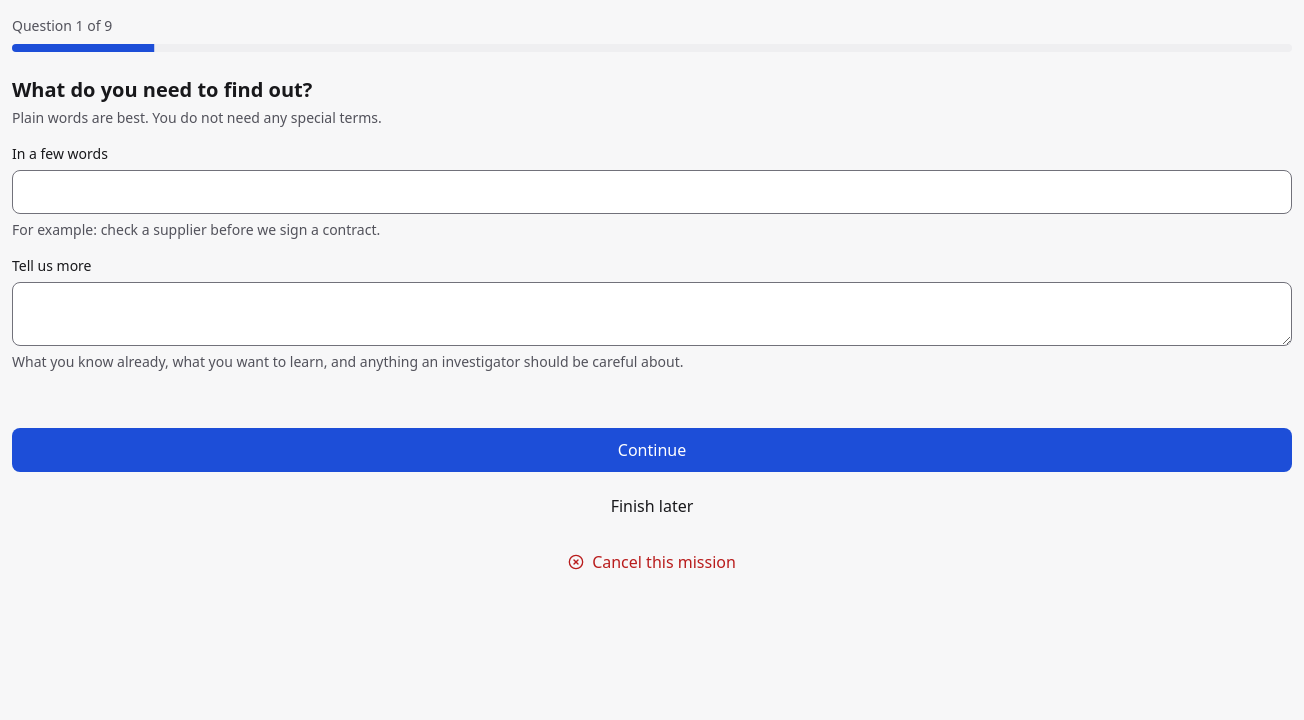
Test: mission intake › saving as the customer goes › says so when the draft was changed somewhere else
The width and height of the screenshot is (1304, 720).
Type "A" into the field labelled "In a few words".
click(652, 192); type("A")  # box [12, 170, 1292, 214]
Wait 800 ms
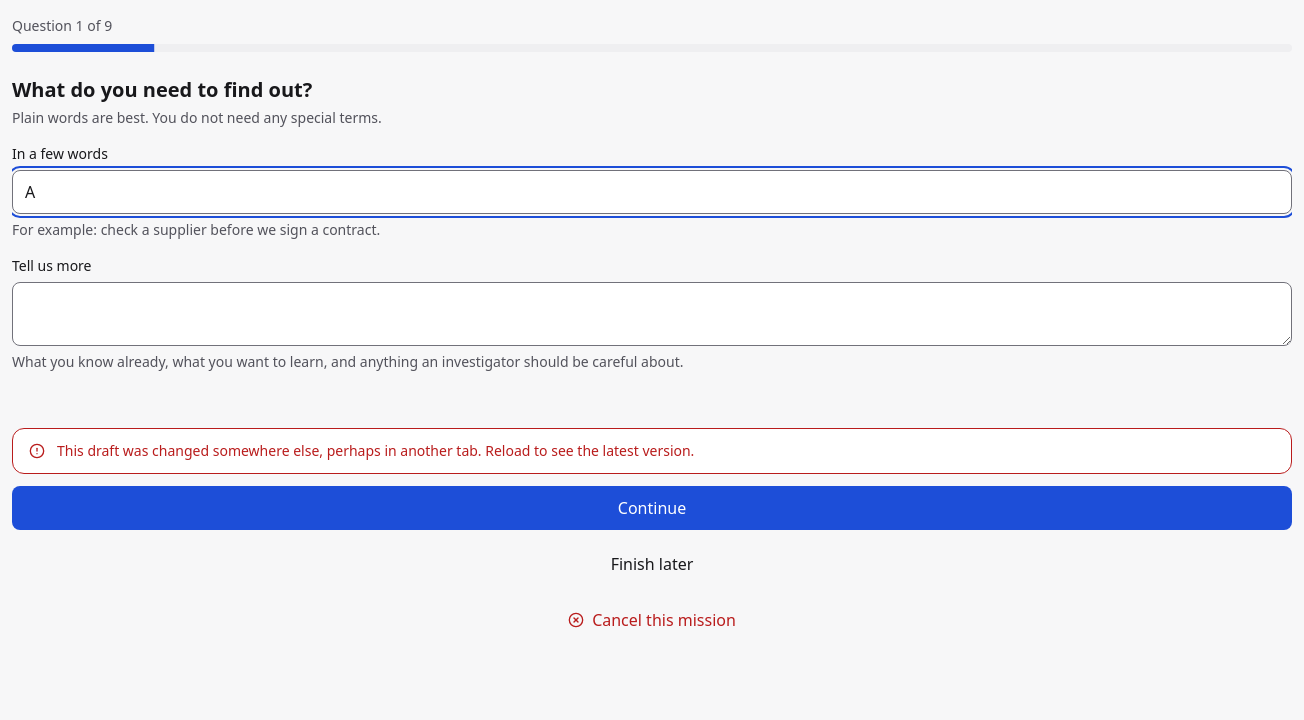
expect the 2nd message shows "This draft was changed somewhere else, perhaps in another tab. Reload to see the latest version.": met, box [57, 441, 694, 460]
